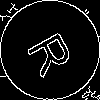R: (25, 25, 83, 79)
